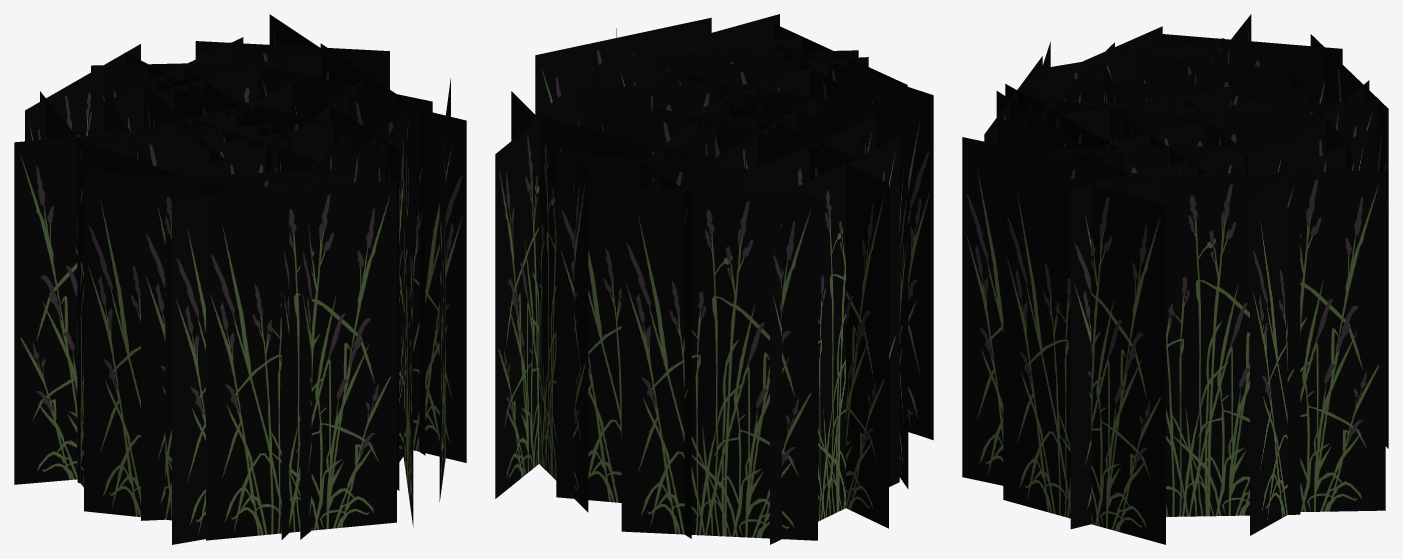
Rendered from space_weed.fbx.
The picture shows the model from 3 angles, left to right: view 1: azimuth 30°, elevation 25°; view 2: azimuth 150°, elevation 25°; view 3: azimuth 270°, elevation 25°; orthographic projection.
Visible parts, largest first — view 1: Cube_53; view 2: Cube_53; view 3: Cube_53.
Boxes of the visible parts, x1=… form: Cube_53: x1=14, y1=14, x2=466, y2=544; Cube_53: x1=495, y1=14, x2=933, y2=544; Cube_53: x1=962, y1=14, x2=1388, y2=544.
Size of the model in its own units: 73.34 by 60.96 by 69.28.
Materials: 1 (1 with a texture image).
